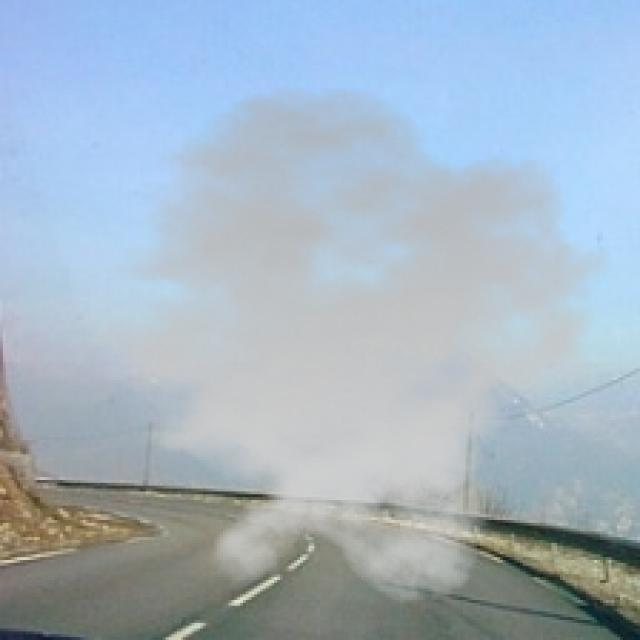Smoke: (60, 85, 626, 606)
